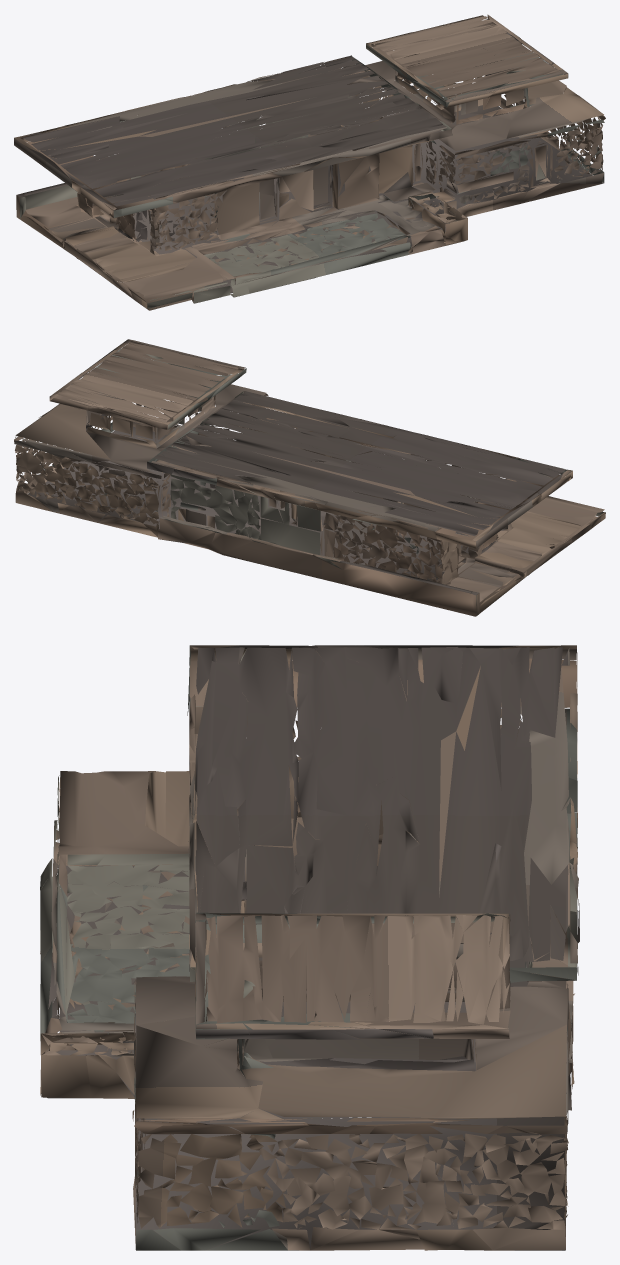
File: manor.glb
The picture shows the model from 3 angles, top to bottom: view 1: azimuth 30°, elevation 25°; view 2: azimuth 150°, elevation 25°; view 3: azimuth 270°, elevation 25°; orthographic projection. The views are drawn at different scales.
Visible parts, largest first — view 1: LO.001; view 2: LO.001; view 3: LO.001.
Boxes of the visible parts, box(x1,y1,x2,y2) form: LO.001: box(14, 14, 605, 310); LO.001: box(14, 339, 605, 616); LO.001: box(40, 645, 579, 1250).
Bounding box in the file's own units: 1.91 × 0.4031 × 0.9568.
Materials: 1 (1 with a texture image).
